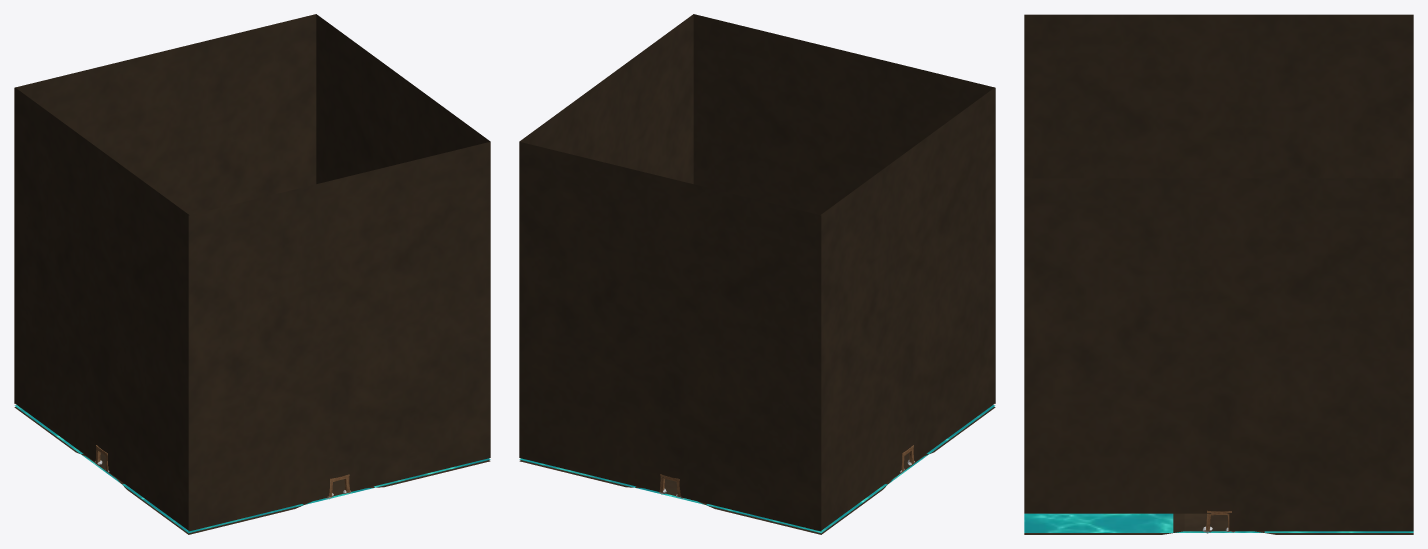
File: Room004.fbx
3 views of the same model, side by side, from view 1: azimuth 30°, elevation 25°; view 2: azimuth 150°, elevation 25°; view 3: azimuth 270°, elevation 25° (orthographic). The views are drawn at different scales.
Parts seen in each view (by area): view 1: 4ParedN, 3ParedE, 2ParedS, 1ParedW, 4Pared.001N, 4Pared.002N, 3Pared.002E, 3Pared.001E, Agua, 1Suelo.011; view 2: 2ParedS, 3ParedE, 4ParedN, 1ParedW, 2Pared.001S, 2Pared.002S, 3Pared.002E, 3Pared.001E, Agua, 1Suelo.011; view 3: 1ParedW, 3ParedE, 1Pared.001W, Agua, 1Suelo.011.
Part boxes in pixels (<box>): 4ParedN: <box>188,142,490,515</box>; 3ParedE: <box>15,87,189,514</box>; 2ParedS: <box>14,14,316,387</box>; 1ParedW: <box>316,14,490,183</box>; 4Pared.001N: <box>188,481,329,531</box>; 4Pared.002N: <box>349,442,490,491</box>; 3Pared.002E: <box>107,456,188,530</box>; 3Pared.001E: <box>15,388,96,461</box>; Agua: <box>14,405,490,533</box>; 1Suelo.011: <box>14,407,490,534</box>; 2ParedS: <box>519,142,821,515</box>; 3ParedE: <box>820,87,994,514</box>; 4ParedN: <box>693,14,995,387</box>; 1ParedW: <box>519,14,693,183</box>; 2Pared.001S: <box>679,481,821,531</box>; 2Pared.002S: <box>519,442,660,491</box>; 3Pared.002E: <box>913,388,994,461</box>; 3Pared.001E: <box>821,456,901,530</box>; Agua: <box>519,405,995,533</box>; 1Suelo.011: <box>519,407,995,534</box>; 1ParedW: <box>1024,178,1413,513</box>; 3ParedE: <box>1024,14,1413,178</box>; 1Pared.001W: <box>1229,513,1413,531</box>; Agua: <box>1024,513,1413,532</box>; 1Suelo.011: <box>1024,513,1413,534</box>.
Bounding box in the file's own units: 9600 × 10200 × 9608.
